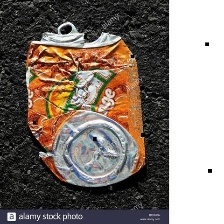can: (21, 18, 149, 189)
